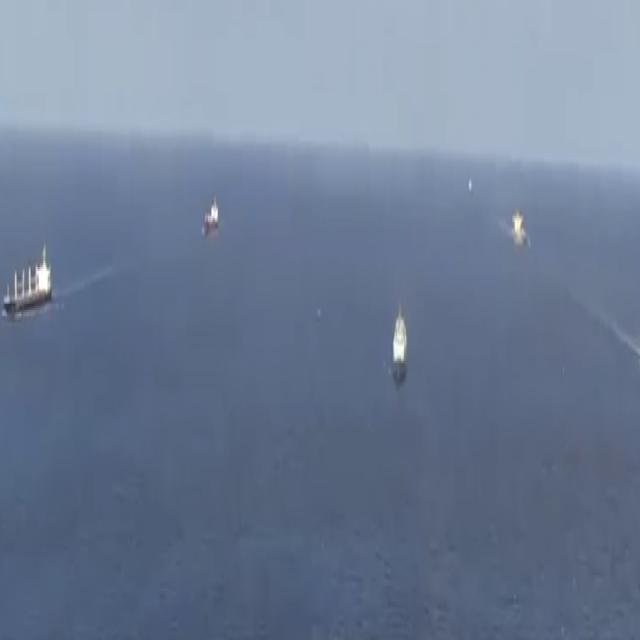cargoship: (1, 236, 51, 332), (390, 302, 408, 383), (200, 185, 222, 242), (510, 204, 530, 257)
